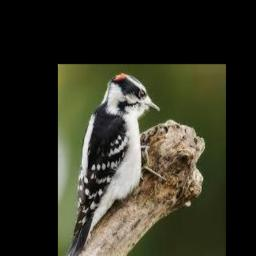Woodpecker: (62, 72, 167, 256)
